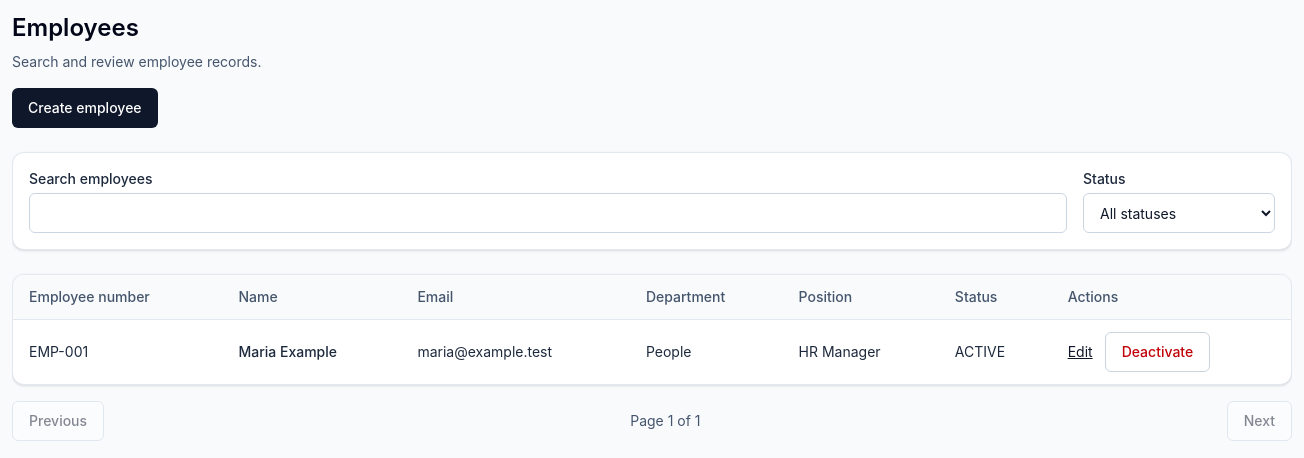
Test case: EmployeeManagementPage › deactivates an employee and refreshes all employee-list queries
The width and height of the screenshot is (1304, 458).
Check: the row "EMP-001 Maria Example" is shown, box [13,320,1291,384]
What coordinates should you click on to do the following:
click the button with aria-label "Deactivate Maria Example"
I would click on:
 (1157, 352)
Its box is [1105,332,1210,372].
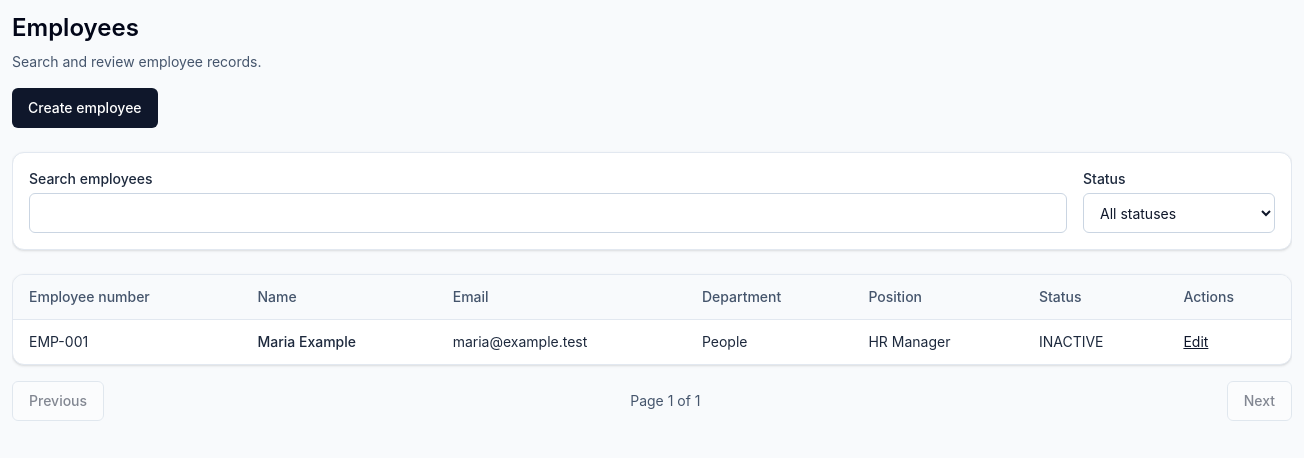
Check: the text "INACTIVE" is shown, box [1023,320,1168,364]
